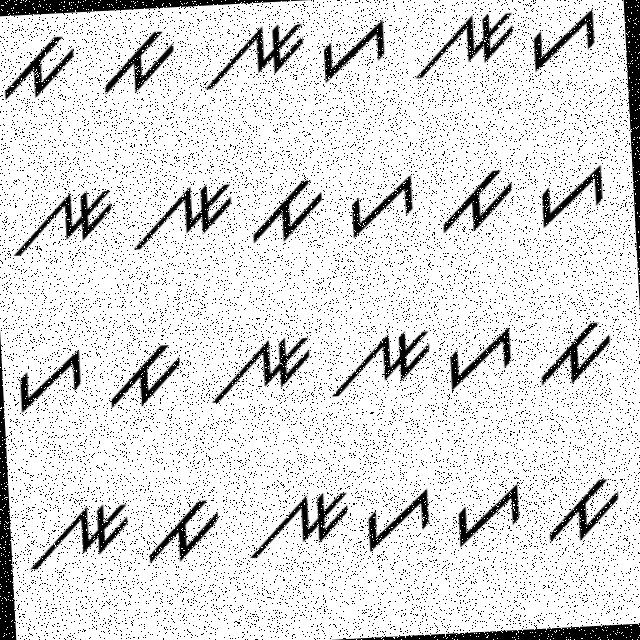ha: (6, 342, 90, 428), (338, 164, 423, 243), (526, 3, 609, 82), (316, 14, 399, 92), (451, 474, 528, 555), (532, 161, 612, 233), (442, 322, 524, 392), (360, 482, 437, 555)
mba: (89, 24, 190, 104), (144, 484, 227, 576), (528, 314, 618, 398), (0, 25, 81, 118), (98, 337, 188, 419), (248, 170, 333, 256), (436, 162, 524, 244), (539, 475, 625, 550)
nda: (22, 488, 134, 586), (200, 322, 316, 414), (410, 1, 521, 95), (327, 316, 440, 408), (7, 181, 122, 270), (200, 8, 308, 96), (127, 172, 238, 255), (244, 485, 354, 566)
